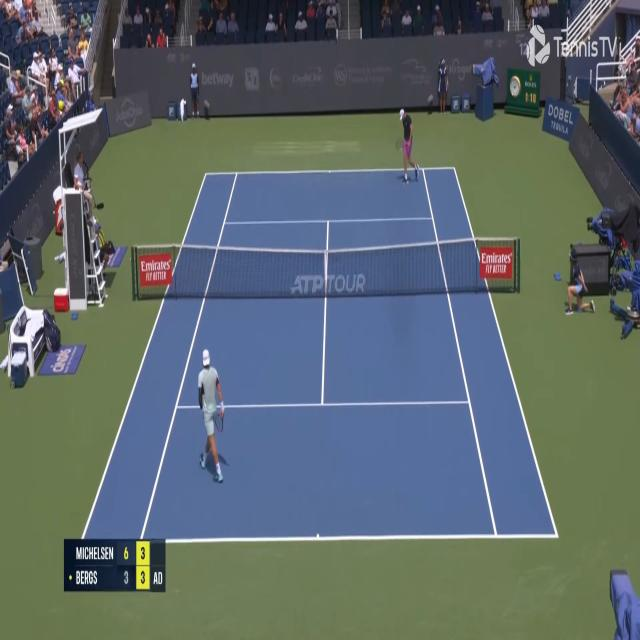tennis-player: (197, 346, 228, 485), (393, 102, 424, 185)
